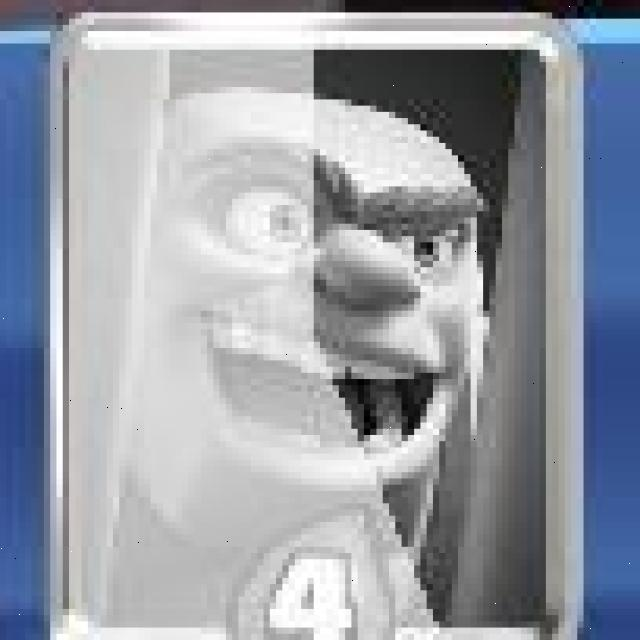Goblin_Cage: (44, 10, 585, 640)
